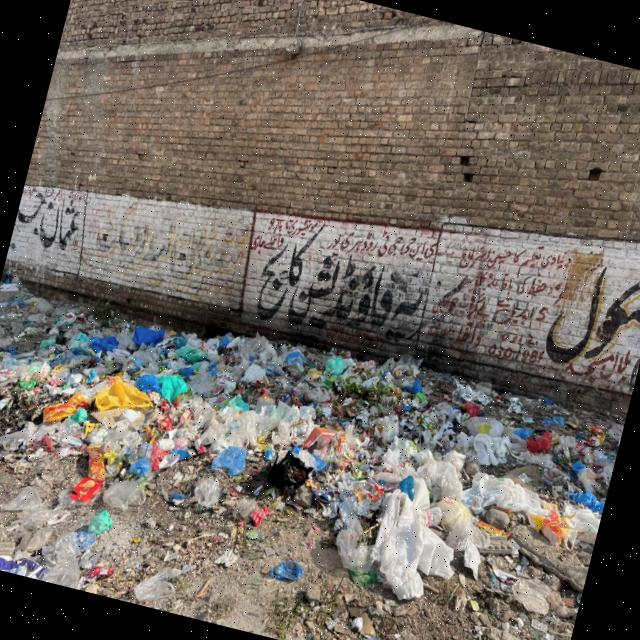garbage: (0, 273, 623, 640)
